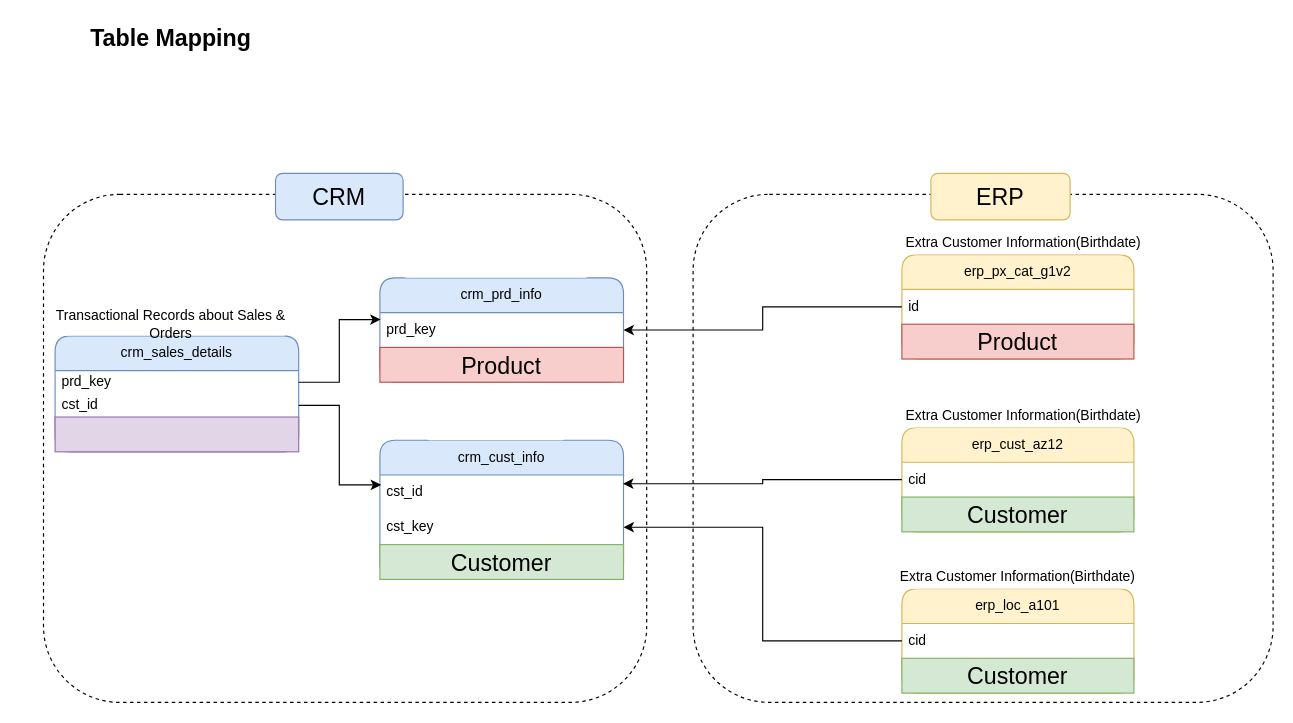
Some shapes in this 1293 by 723 pixel diagram are drawn without their labels. Here are the shapes that lost their labels. From the top down, the centre of each, then its label:
At [495,265]: "Current & History Information".
At [176,434]: "Sales".
At [495,428]: "Customer Information".
